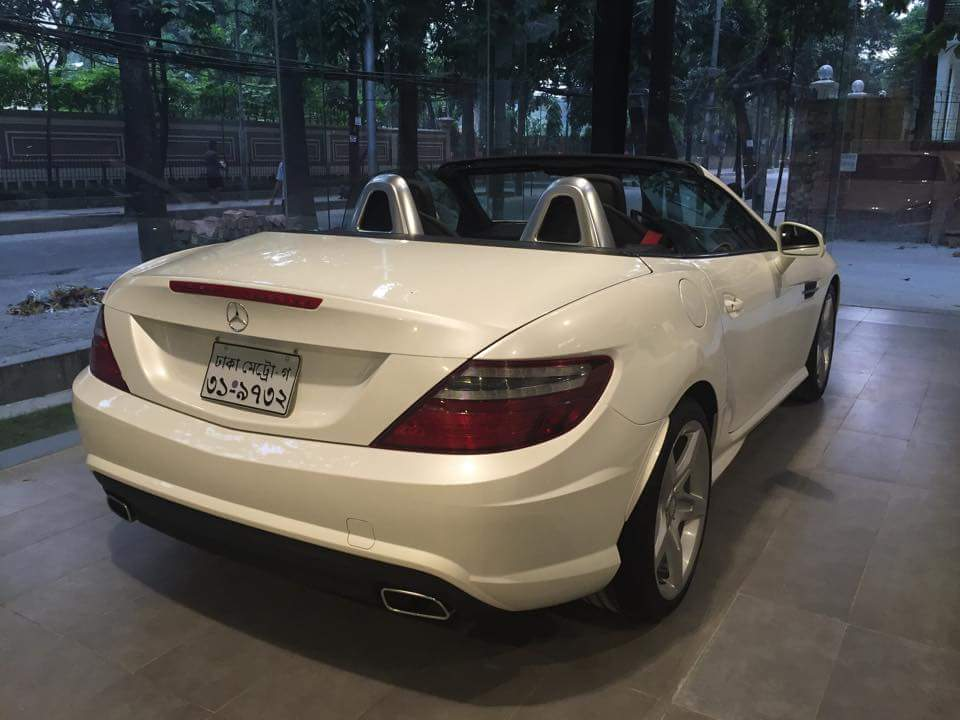registration_plate: (200, 340, 301, 418)
